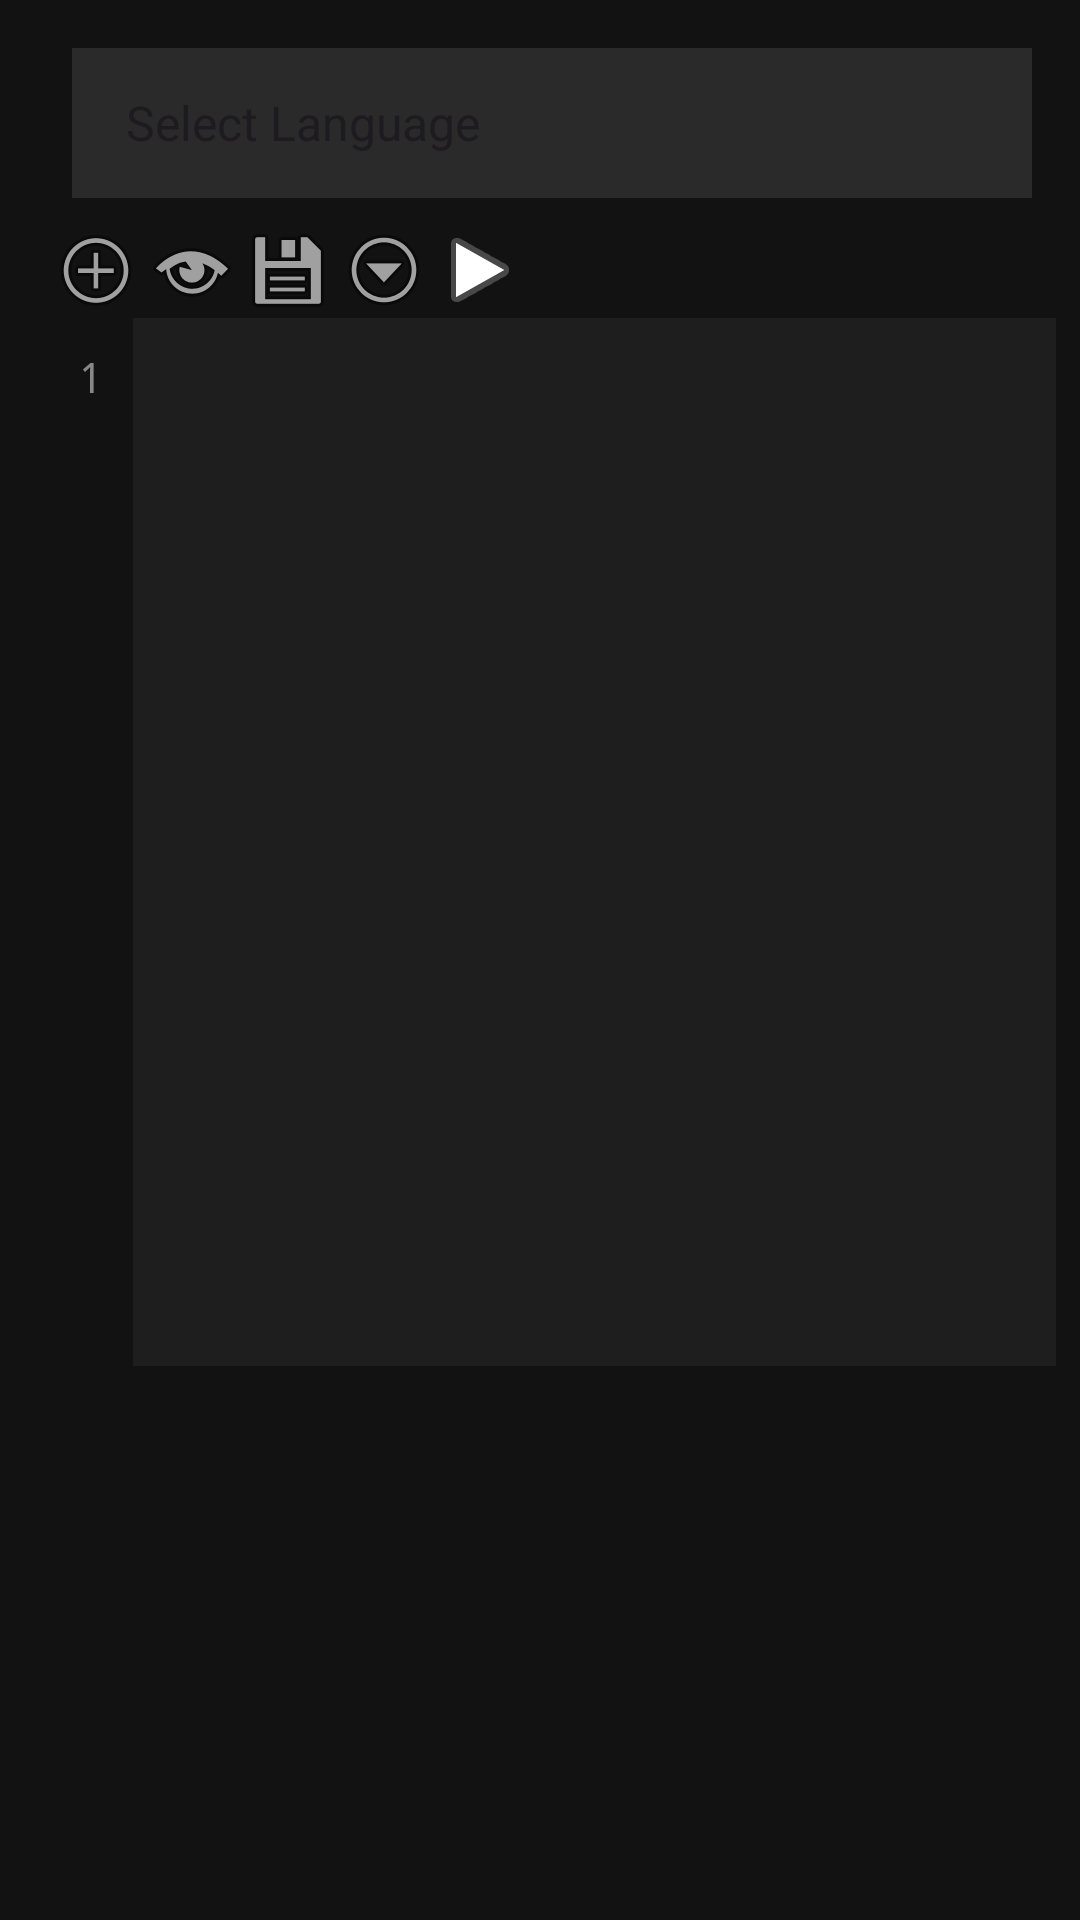

Where icons sit on this 1080px×1920px app screen, as (x1, y1, x2, y2):
Compile: (451, 238, 509, 302)
More Options: (351, 238, 417, 303)
New: (63, 238, 129, 303)
Save: (255, 237, 321, 304)
